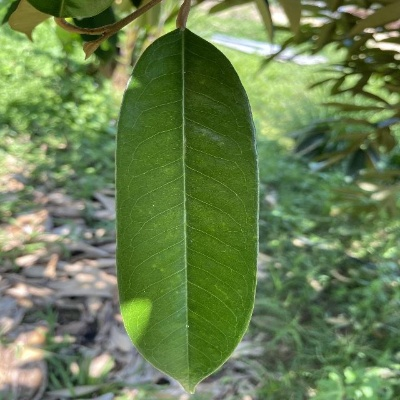Leaf_Healthy: (113, 26, 261, 395)
